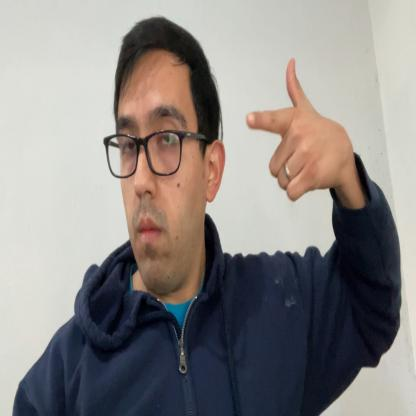G: (246, 57, 350, 201)
